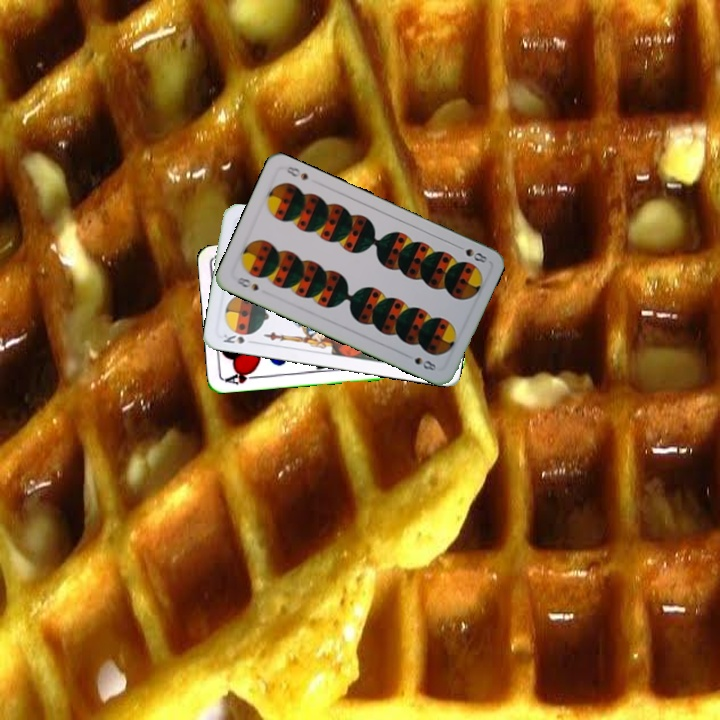HA: (222, 366, 262, 387)
S8: (461, 244, 490, 265), (233, 273, 261, 294)
SK: (218, 328, 255, 347)
